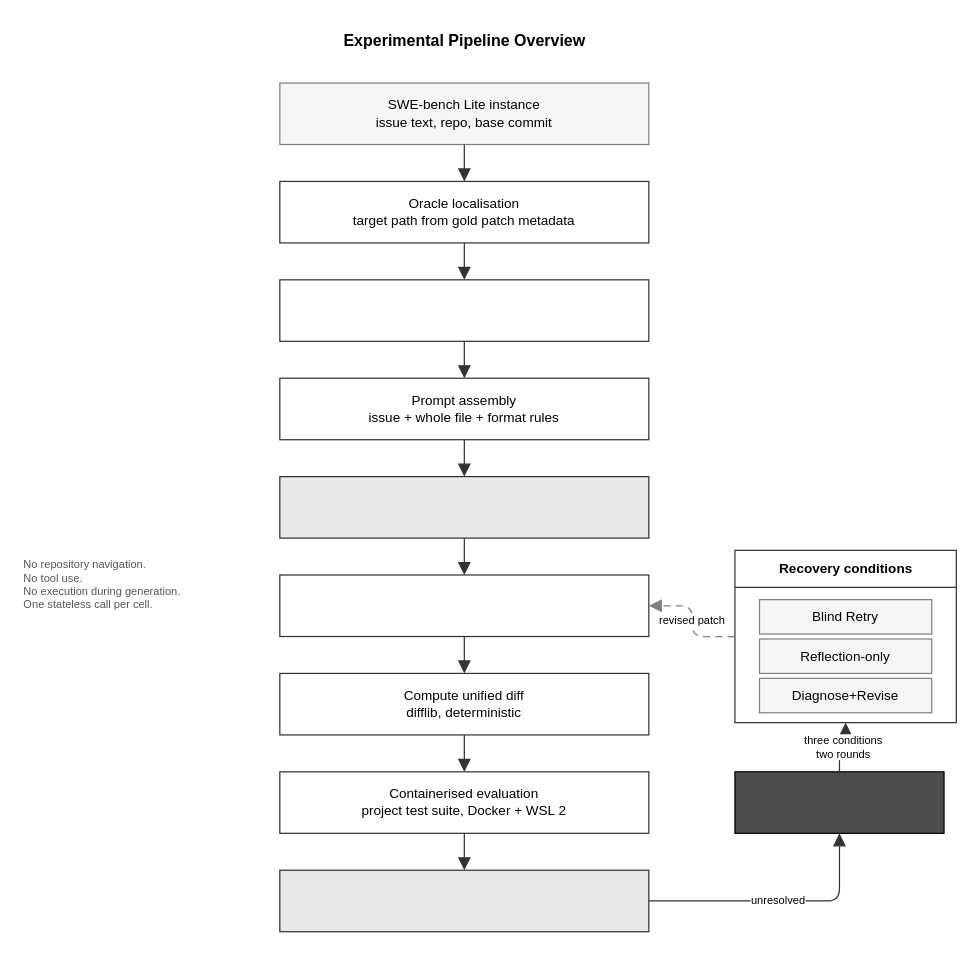
The diagram is 978 pixels wide and 953 high, and some of its shapes have lost their labels. Each missing label, with the centre of its shape:
Apply SEARCH/REPLACE blocks exact string match: point 464,605
Failure pool 8 of 20 instances: point 839,802
Outcome classification five categories, Figure 4.5: point 464,900
Retrieve target file at base commit complete file, no truncation: point 464,310
Single model call gemini-3.6-flash, one invocation: point 464,506
